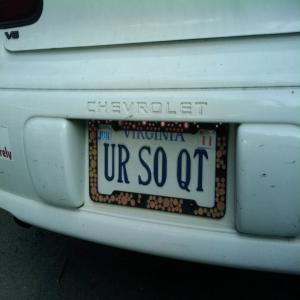Vehicle-registration-plate: (98, 124, 219, 197)
